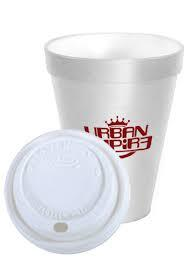Plastic cup: (1, 5, 188, 264)
